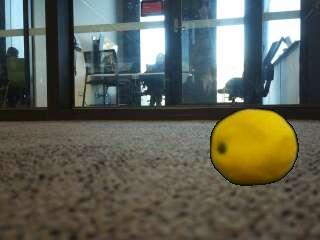lemon: (210, 109, 297, 184)
